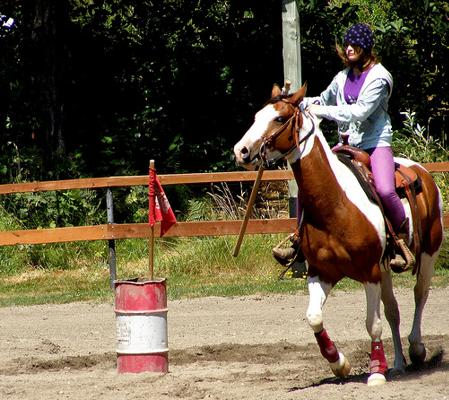person: (282, 21, 416, 265)
